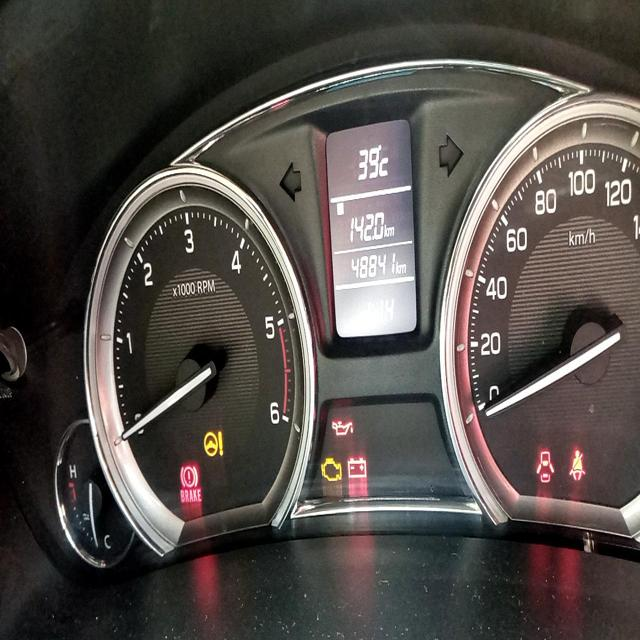odometer: (349, 249, 398, 284)
